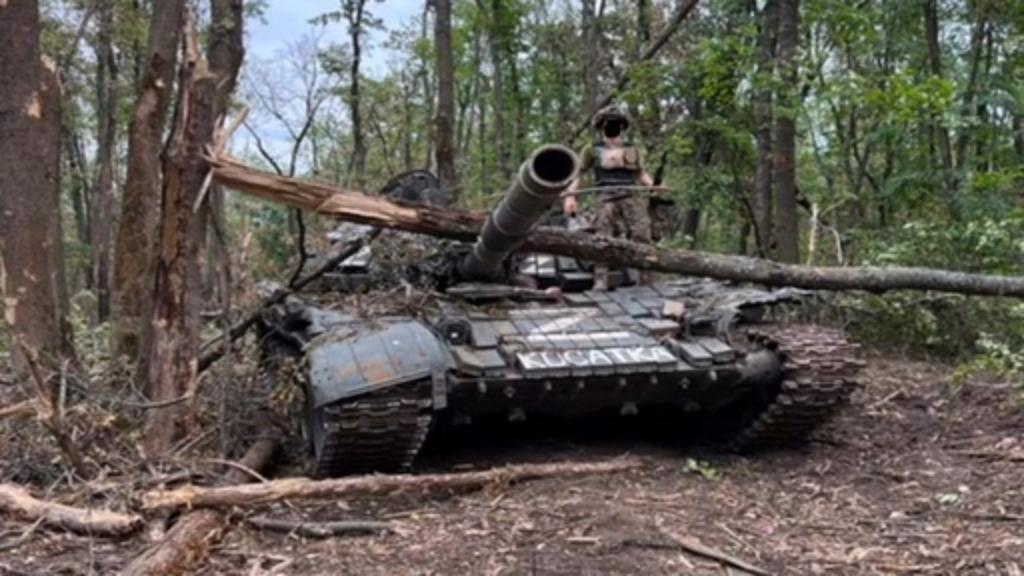TANK: (252, 172, 858, 480)
